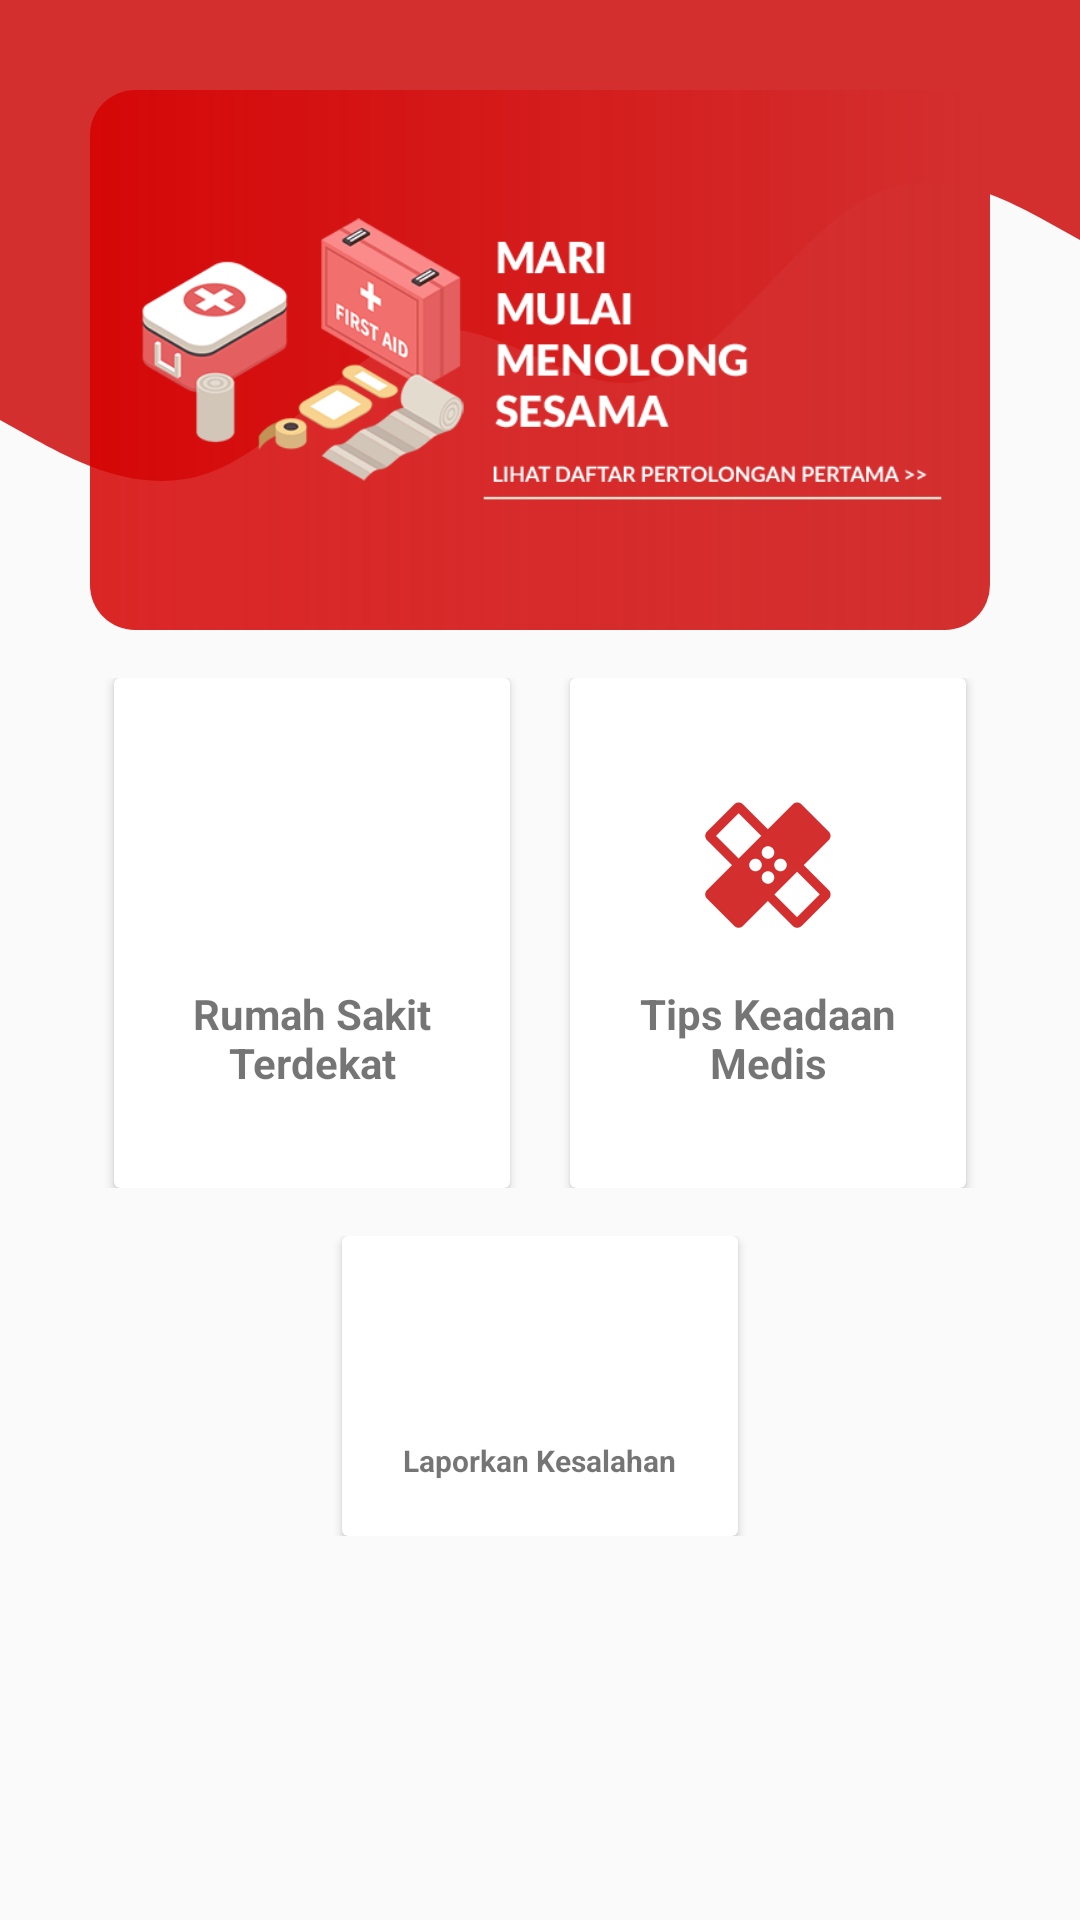

Named icons in this screenshot (1080w x 1920h) and their centers, point (x, y):
kesehatan: point (768, 865)
